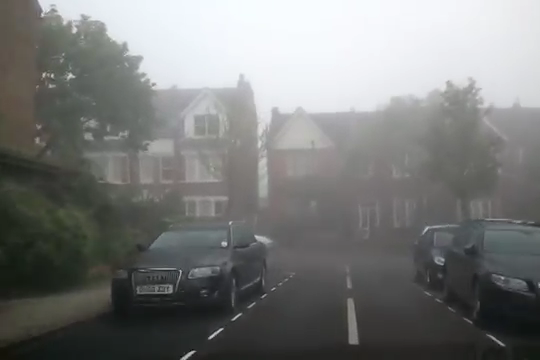car: (107, 219, 271, 313), (441, 216, 540, 335), (410, 222, 489, 291)
